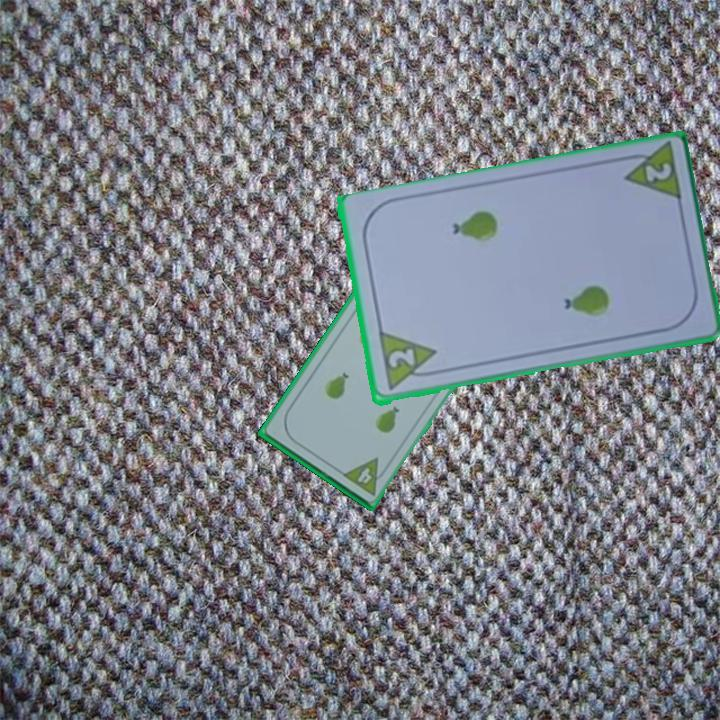2p: (615, 141, 685, 206), (374, 329, 442, 394)
4p: (339, 454, 391, 498)
